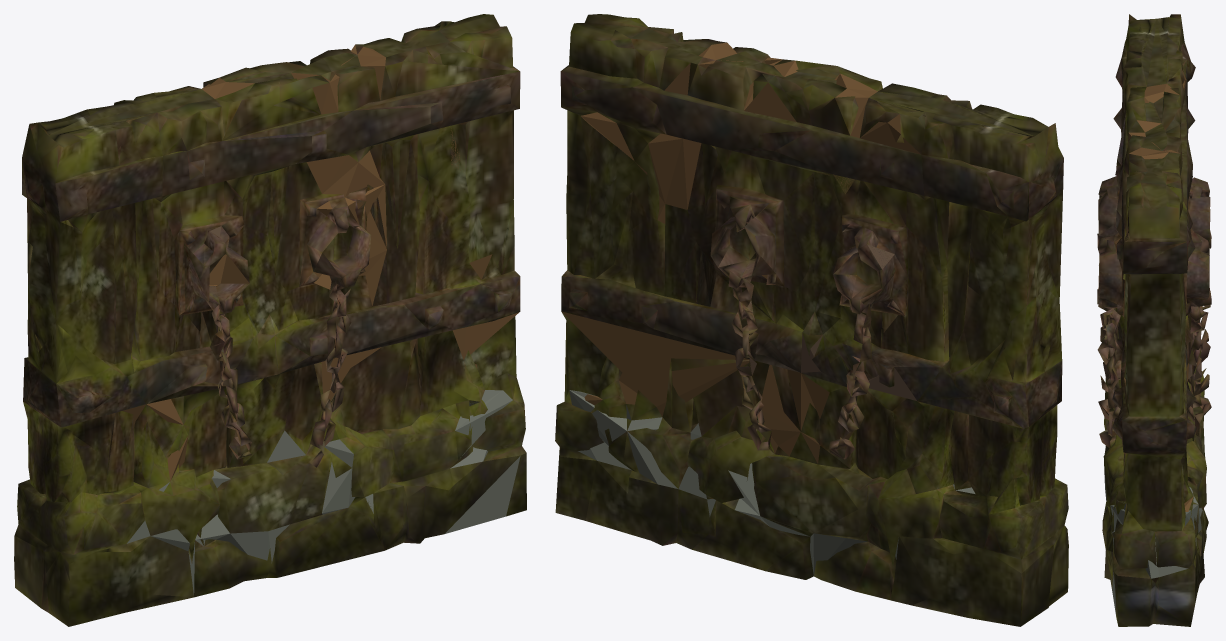
The model's file is prison-wall-fragments.glb.
The picture shows the model from 3 angles, left to right: view 1: azimuth 30°, elevation 25°; view 2: azimuth 150°, elevation 25°; view 3: azimuth 270°, elevation 25°; orthographic projection. The views are drawn at different scales.
Visible parts, largest first — view 1: Plank_0_Upper, Plank_3_Upper, Plank_1_Upper, Plank_5_Upper, Plank_6_Upper, Plank_5_Lower, Plank_4_Upper, Plank_2_Upper, Plank_1_Lower, Stone_0_0, Plank_3_Lower, Plank_0_Lower (+24 smaller); view 2: Plank_0_Upper, Plank_5_Lower, Plank_3_Upper, Plank_6_Upper, Plank_1_Upper, Plank_2_Upper, Plank_4_Upper, Plank_5_Upper, Plank_1_Lower, Stone_0_0, Plank_0_Lower, Stone_1_2 (+24 smaller); view 3: Plank_6_Upper, Plank_6_Lower, Stone_1_4, Stone_0_4, Plank_1_Upper, Stone_1_3, Plank_3_Upper, Plank_4_Upper, Plank_5_Upper, Mount_front_R, Mount_back_R, Plank_2_Upper (+25 smaller).
Boxes of the visible parts, x1,y1,x2,y2 form: Plank_0_Upper: (22,109,121,382); Plank_3_Upper: (202,62,337,332); Plank_1_Upper: (50,89,214,361); Plank_5_Upper: (357,26,519,249); Plank_6_Upper: (434,14,519,279); Plank_5_Lower: (347,206,468,429); Plank_4_Upper: (289,44,397,313); Plank_2_Upper: (154,77,272,342); Plank_1_Lower: (105,258,193,492); Stone_0_0: (14,535,193,626); Plank_3_Lower: (241,237,341,463); Plank_0_Lower: (23,331,115,501); Plank_0_Upper: (964,108,1063,380); Plank_5_Lower: (561,192,749,432); Plank_3_Upper: (744,60,877,309); Plank_6_Upper: (562,14,648,278); Plank_1_Upper: (869,91,1031,358); Plank_2_Upper: (815,73,940,347); Plank_4_Upper: (687,42,794,322); Plank_5_Upper: (617,27,736,230); Plank_1_Lower: (892,241,970,493); Stone_0_0: (899,525,1068,626); Plank_0_Lower: (968,331,1062,514); Stone_1_2: (722,432,857,533); Plank_6_Upper: (1123,181,1187,416); Plank_6_Lower: (1116,396,1193,531); Stone_1_4: (1107,493,1200,583); Stone_0_4: (1112,569,1195,626); Plank_1_Upper: (1124,19,1183,86); Stone_1_3: (1103,441,1206,555); Plank_3_Upper: (1098,84,1209,288); Plank_4_Upper: (1097,120,1197,318); Plank_5_Upper: (1123,147,1186,279); Mount_front_R: (1097,235,1122,308); Mount_back_R: (1186,232,1211,306); Plank_2_Upper: (1099,58,1210,210).
Size of the model in its own units: 2 by 1.91 by 0.4708.
Materials: 4 (1 with a texture image).
